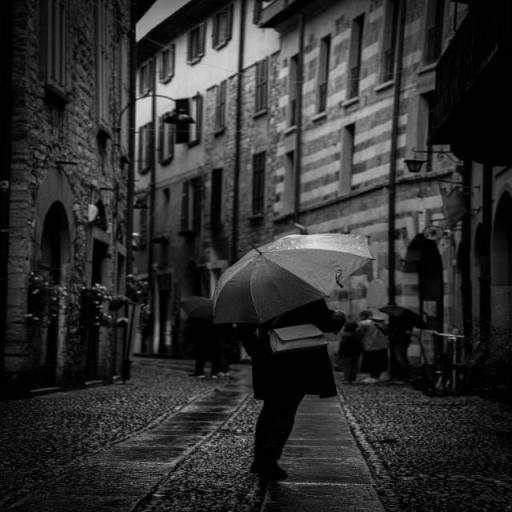guarda_chuva: (210, 232, 376, 325)
